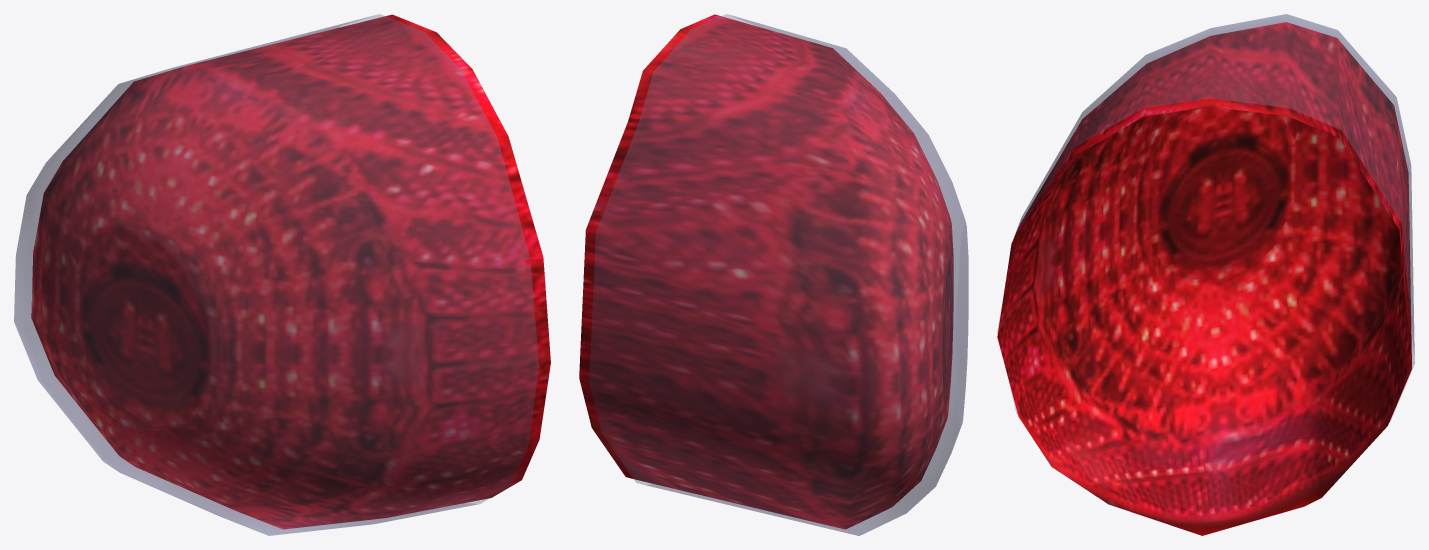
The picture shows the model from 3 angles, left to right: view 1: azimuth 30°, elevation 25°; view 2: azimuth 150°, elevation 25°; view 3: azimuth 270°, elevation 25°; orthographic projection. The views are drawn at different scales.
Parts seen in each view (by area): view 1: U236_17_541C_R_U236_17_541C_R_1_DTaSI, U236_17_541C_R_2_N_U236_17_541C_R; view 2: U236_17_541C_R_U236_17_541C_R_1_DTaSI, U236_17_541C_R_2_N_U236_17_541C_R; view 3: U236_17_541C_R_2_N_U236_17_541C_R, U236_17_541C_R_U236_17_541C_R_1_DTaSI.
Boxes of the visible parts, x1,y1,x2,y2 form: U236_17_541C_R_U236_17_541C_R_1_DTaSI: [14, 14, 538, 535]; U236_17_541C_R_2_N_U236_17_541C_R: [31, 14, 550, 529]; U236_17_541C_R_U236_17_541C_R_1_DTaSI: [589, 14, 968, 535]; U236_17_541C_R_2_N_U236_17_541C_R: [579, 14, 953, 529]; U236_17_541C_R_2_N_U236_17_541C_R: [997, 22, 1411, 535]; U236_17_541C_R_U236_17_541C_R_1_DTaSI: [997, 14, 1414, 422].
Size of the model in its own units: 10.79 by 14.11 by 12.28.
